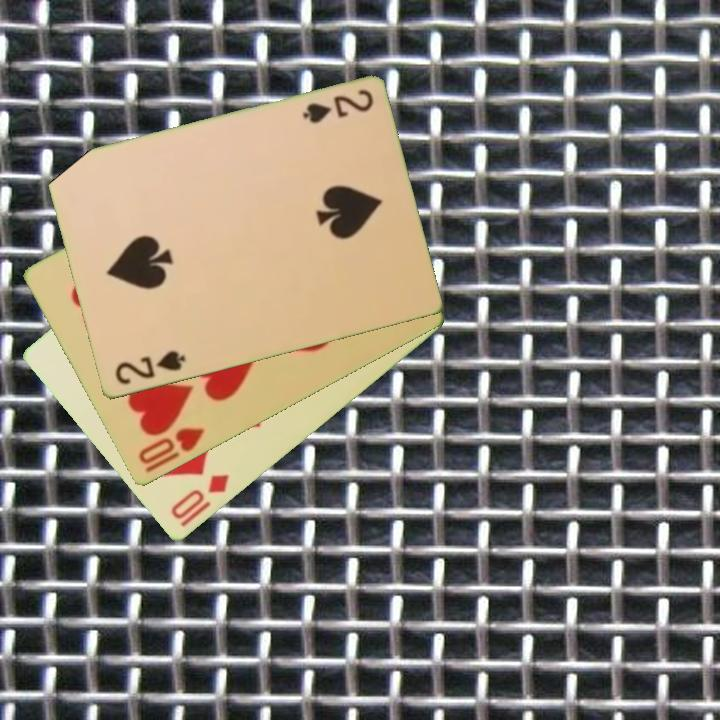10d: (167, 471, 232, 523)
10h: (134, 424, 208, 477)
2s: (298, 86, 376, 127), (111, 347, 188, 388)
